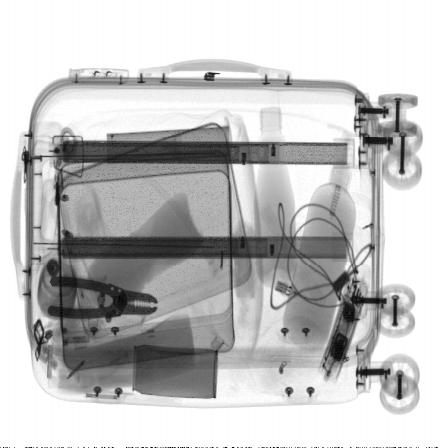Pliers: (46, 276, 159, 320)
